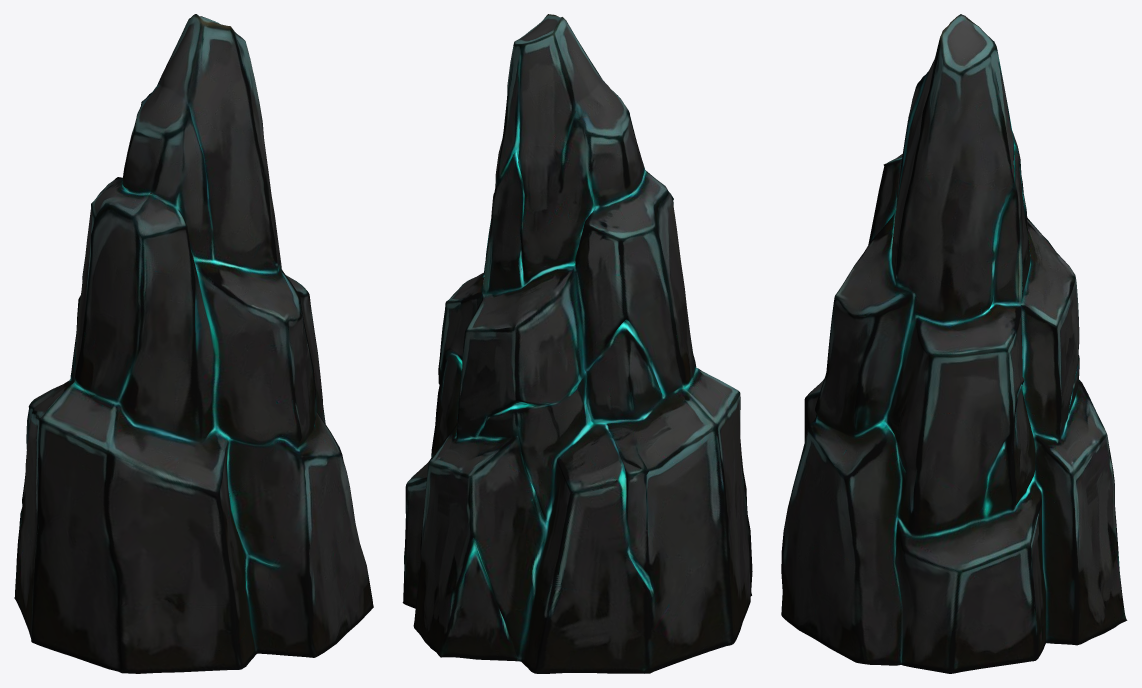
Rendered from crag.glb.
3 views of the same model, side by side, from view 1: azimuth 30°, elevation 25°; view 2: azimuth 150°, elevation 25°; view 3: azimuth 270°, elevation 25° (orthographic).
Parts seen in each view (by area): view 1: geometry_0; view 2: geometry_0; view 3: geometry_0.
Boxes of the visible parts, left/top/right/bottom form: geometry_0: left=14, top=14, right=373, bottom=673; geometry_0: left=402, top=14, right=752, bottom=673; geometry_0: left=781, top=14, right=1127, bottom=673.
Bounding box in the file's own units: 0.5356 × 0.9512 × 0.5078.
1 material, 1 textured.
